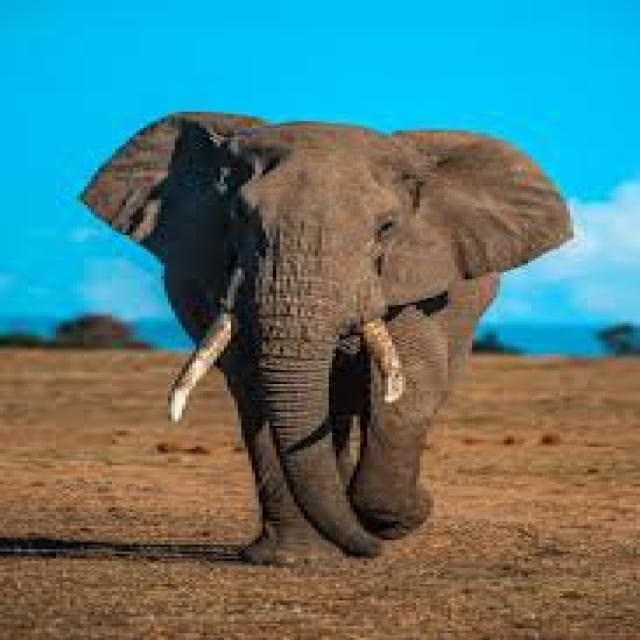Elephant: (77, 107, 573, 566)
